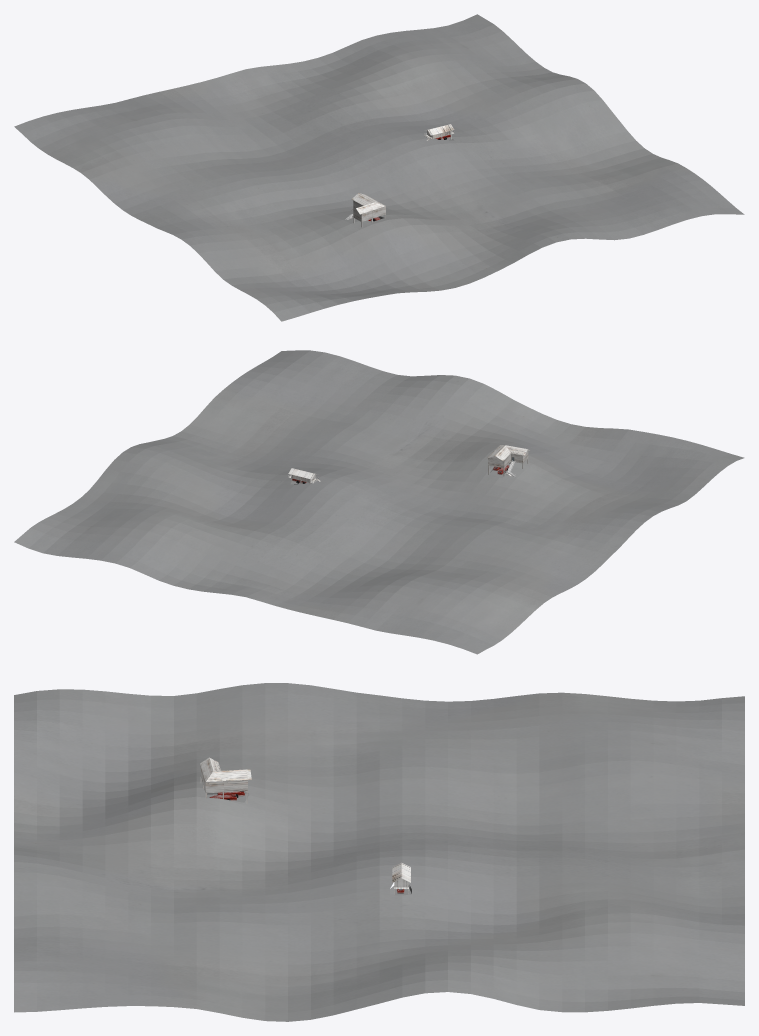
The model's file is environment.glb.
3 renders of one model, top to bottom at view 1: azimuth 30°, elevation 25°; view 2: azimuth 150°, elevation 25°; view 3: azimuth 270°, elevation 25°, orthographic. The views are drawn at different scales.
Visible parts, largest first — view 1: Plane, Cube.001; view 2: Plane, Cube.001; view 3: Plane, Cube.001.
Boxes of the visible parts, box(x1,y1,x2,y2) form: Plane: box(14, 14, 744, 321); Cube.001: box(351, 193, 385, 221); Plane: box(14, 350, 744, 654); Cube.001: box(487, 445, 529, 467); Plane: box(14, 683, 744, 1021); Cube.001: box(200, 757, 251, 793).
Bounding box in the file's own units: 53.18 × 4.52 × 53.18.
7 materials, 7 textured.
